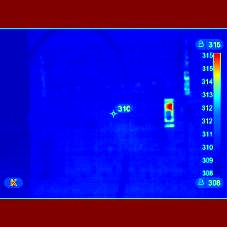Less: (164, 111, 173, 123)
